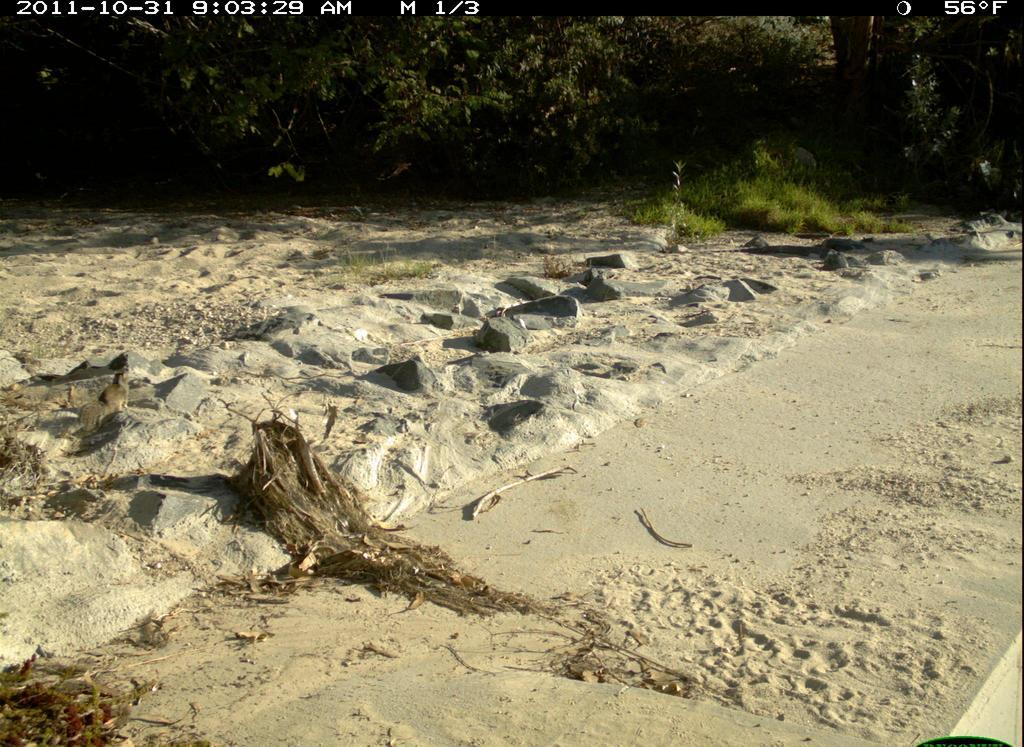squirrel: (80, 364, 140, 443)
